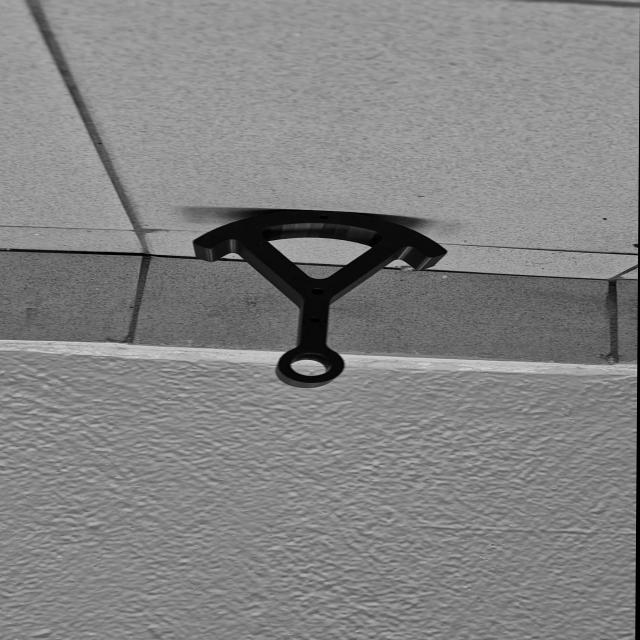haptic: (190, 208, 449, 390)
